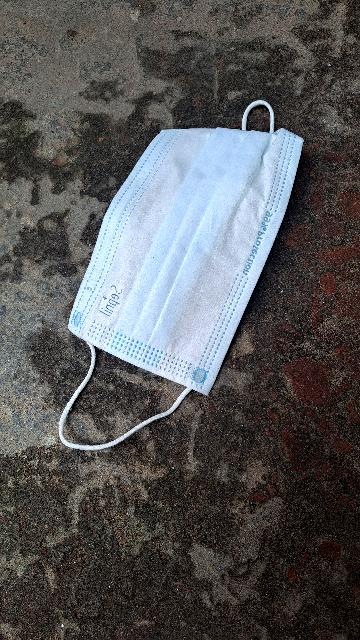mask: (4, 52, 341, 511)
